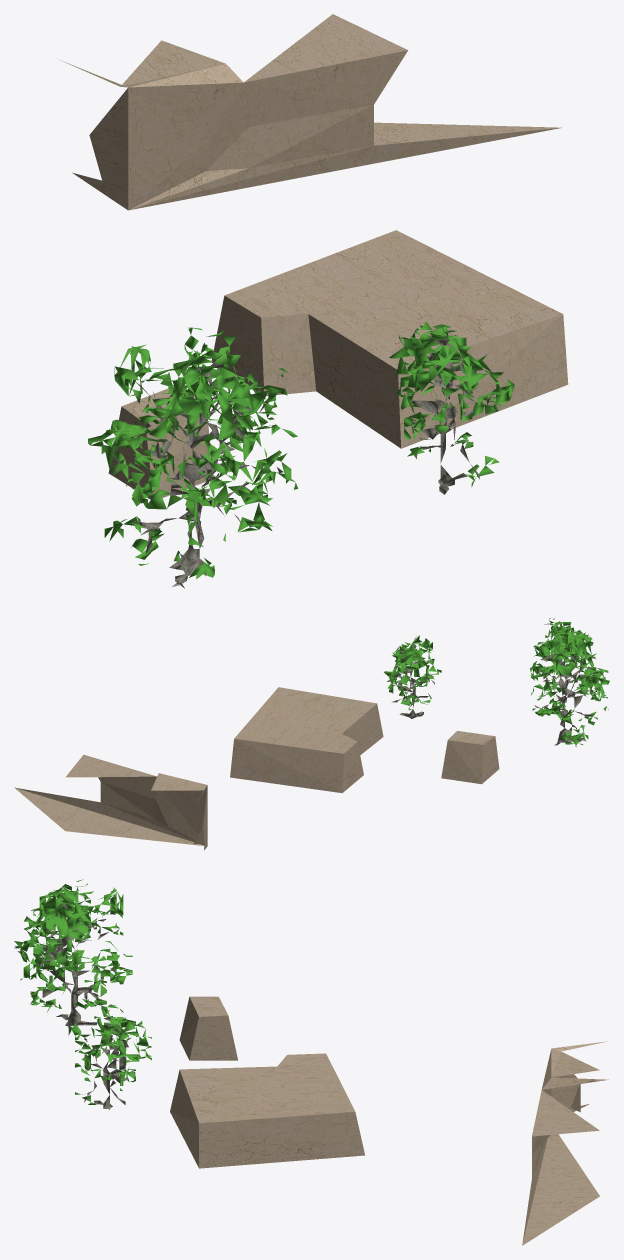
The model's file is tile_0_0.gltf.
3 views of the same model, one above another, from view 1: azimuth 30°, elevation 25°; view 2: azimuth 150°, elevation 25°; view 3: azimuth 270°, elevation 25° (orthographic). The views are drawn at different scales.
Parts seen in each view (by area): view 1: Plane.011@tile_0_0, Bodhi Tree_Bodhi_front_2_Mat_0.044@tile_0_0; view 2: Plane.011@tile_0_0, Bodhi Tree_Bodhi_front_2_Mat_0.044@tile_0_0; view 3: Plane.011@tile_0_0, Bodhi Tree_Bodhi_front_2_Mat_0.044@tile_0_0.
Boxes of the visible parts, left/top/right/bottom form: Plane.011@tile_0_0: left=60, top=14, right=568, bottom=499; Bodhi Tree_Bodhi_front_2_Mat_0.044@tile_0_0: left=88, top=321, right=514, bottom=588; Plane.011@tile_0_0: left=14, top=687, right=499, bottom=850; Bodhi Tree_Bodhi_front_2_Mat_0.044@tile_0_0: left=384, top=618, right=609, bottom=746; Plane.011@tile_0_0: left=170, top=996, right=608, bottom=1245; Bodhi Tree_Bodhi_front_2_Mat_0.044@tile_0_0: left=14, top=879, right=151, bottom=1109.
Size of the model in its own units: 54 by 15.04 by 54.94.
3 materials, 2 textured.
